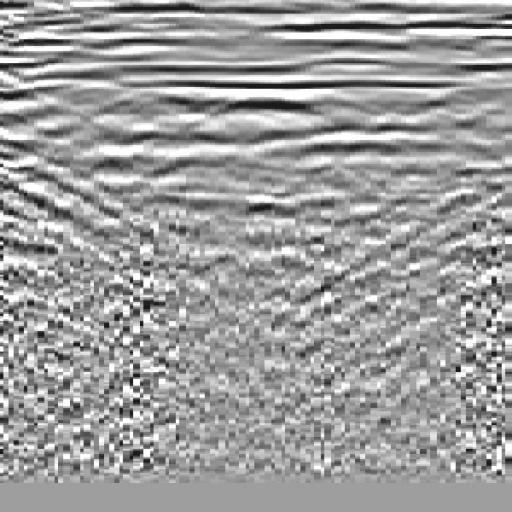metalic: (36, 38, 233, 307)
